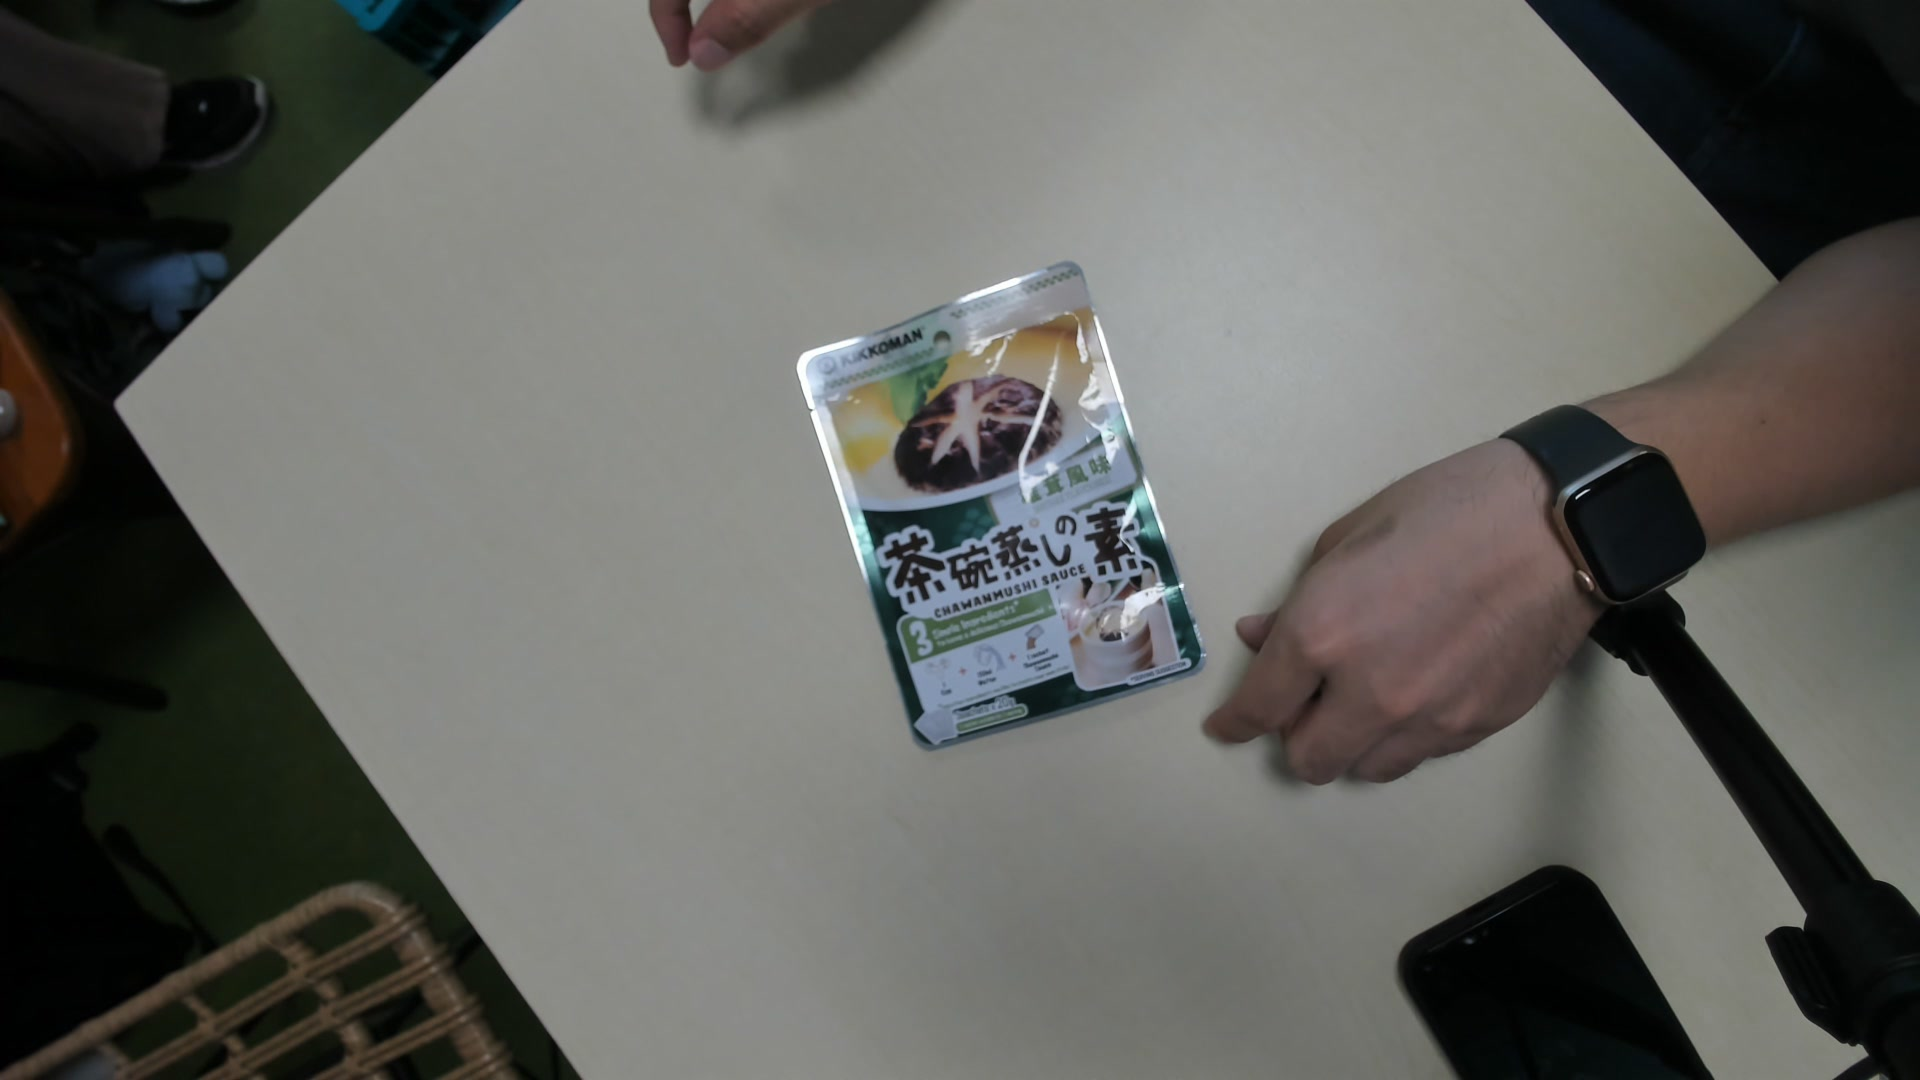OtherSauceDressing_0-99g_NonHalal_NonHealthy: (791, 255, 1204, 760)
